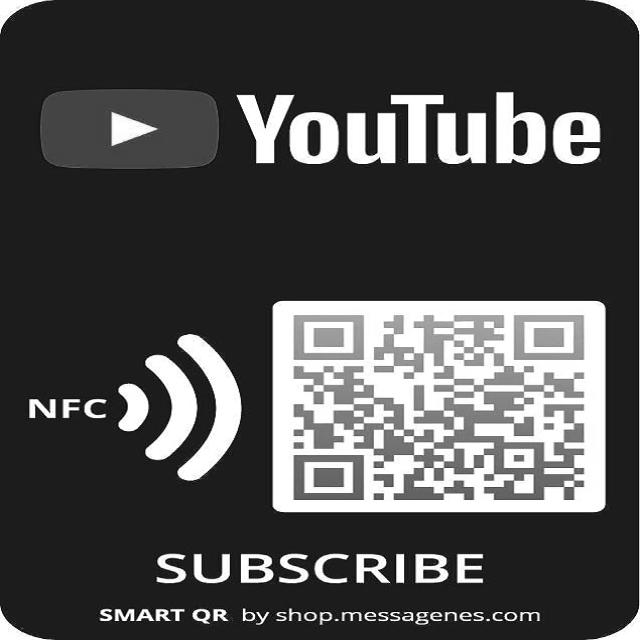QR-codes: (294, 310, 594, 505)
